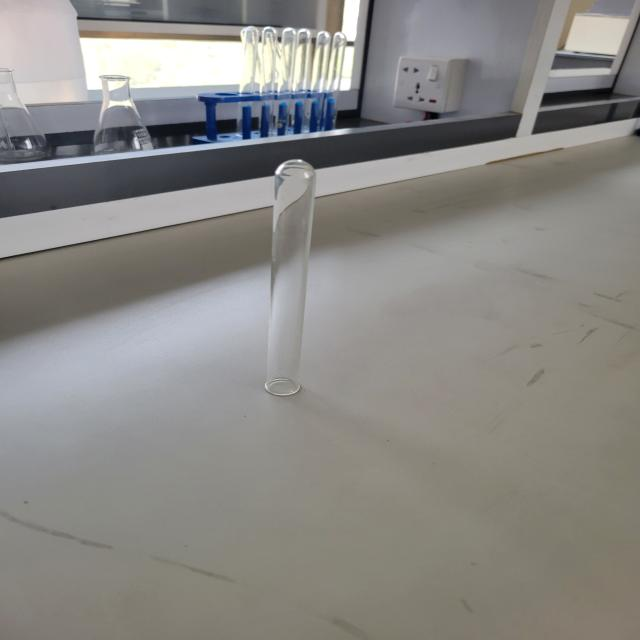Test_Tube: (225, 129, 358, 433)
